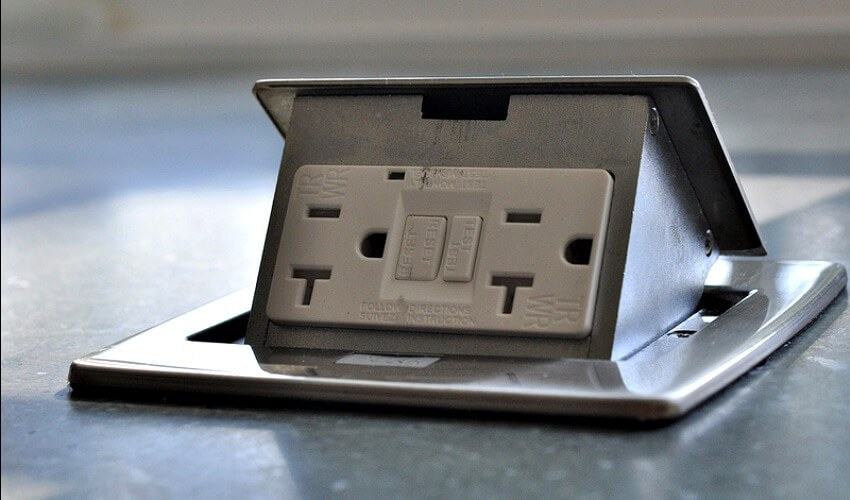outlet: (484, 196, 603, 322), (282, 198, 393, 310)
